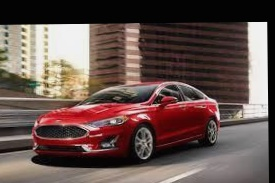car: (24, 77, 224, 165)
